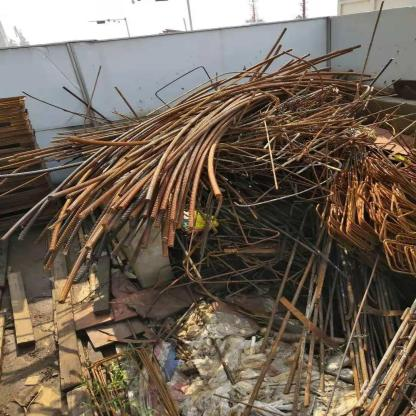rebar: (5, 28, 416, 414)
